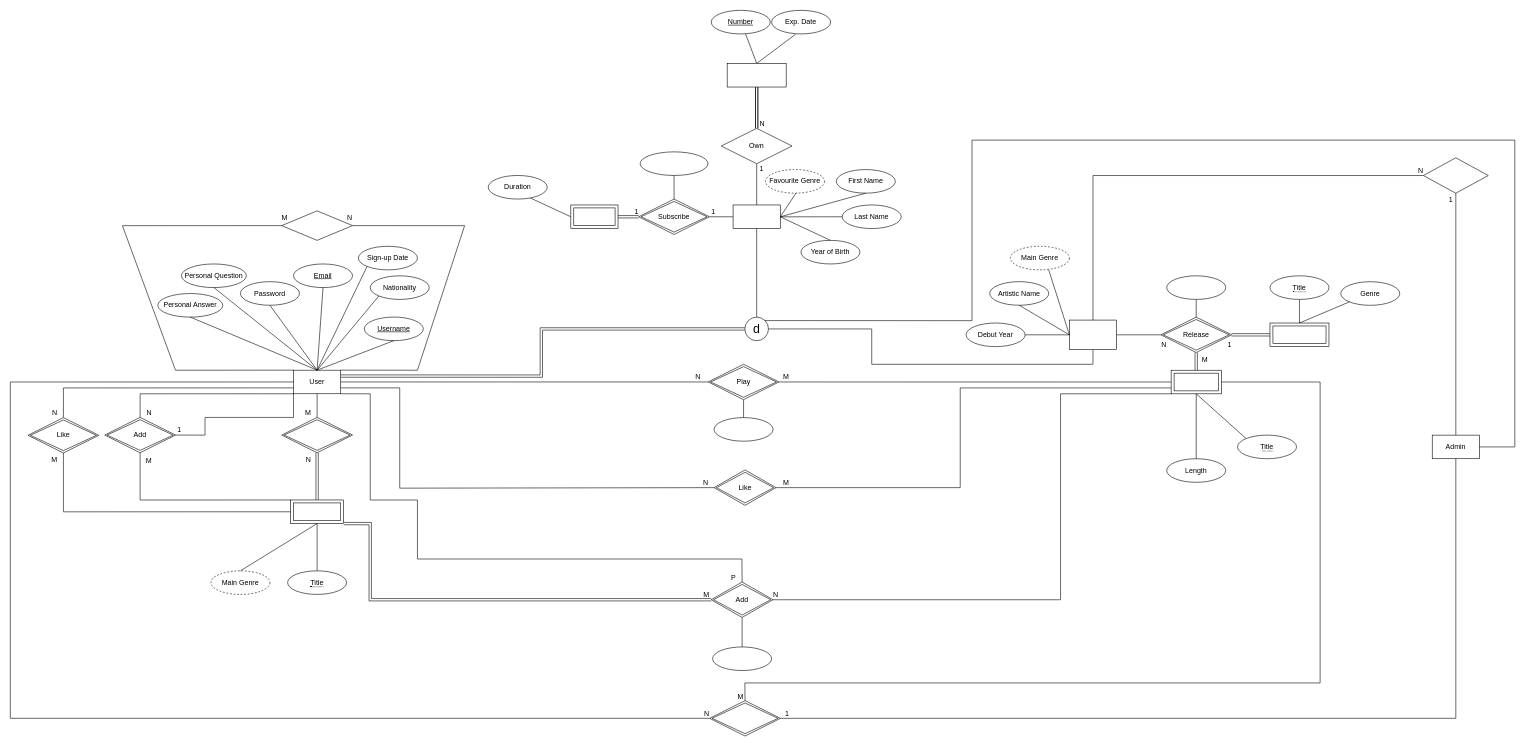
Image size: 1526x746. Some labels were removed from this diagram. Each missing label, with the centre of its shape:
Album: (1299,334)
Approve: (1455,175)
Artist: (1093,334)
Create: (317,435)
Credit Card: (756,75)
Date Added: (742,658)
Date Played: (743,429)
Follow: (317,225)
Listener: (756,216)
Playlist: (317,511)
Premium: (594,216)
Release Date: (1196,287)
Report: (744,718)
Song: (1196,382)
Subscription Date: (674,163)
